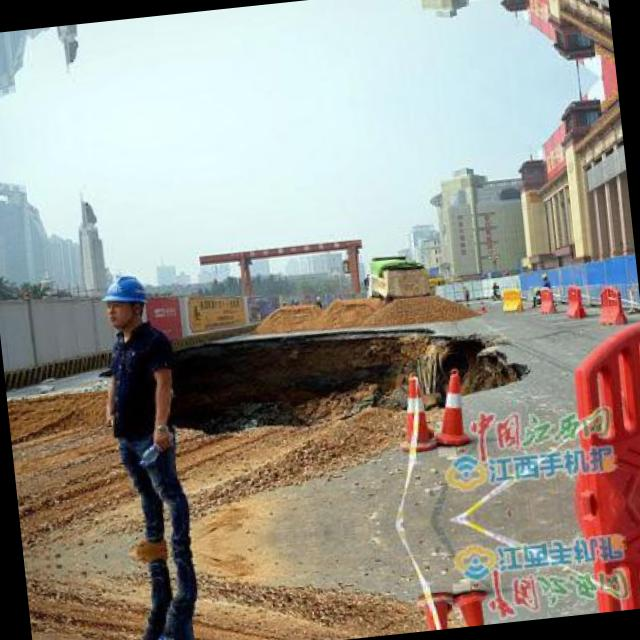helmet: (96, 264, 156, 336)
